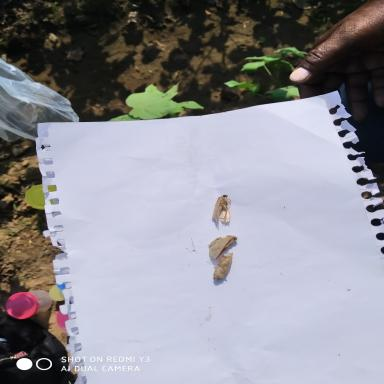abw: (207, 234, 238, 260), (210, 193, 234, 223), (212, 252, 235, 282)
